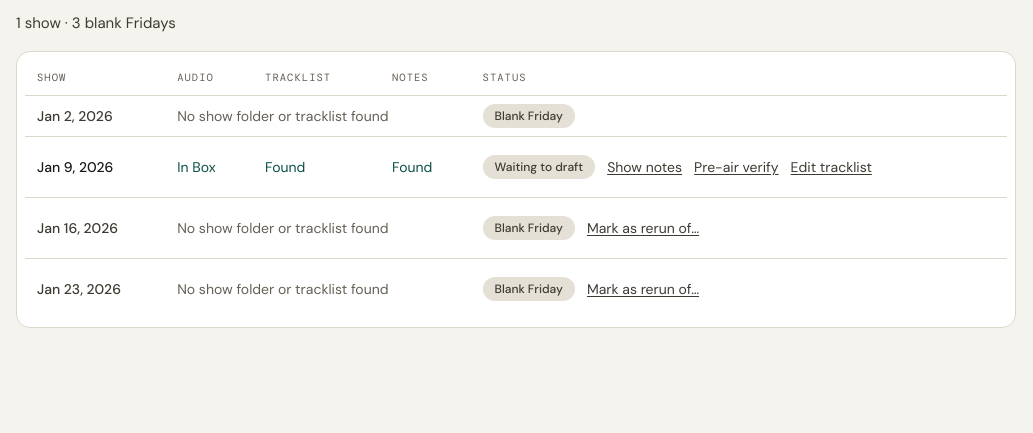
it: EpisodesView research (Plan 7) › a refused start says why in the row
The width and height of the screenshot is (1033, 433).
What coordinates should you click on to do the following:
click the button "Show notes"
I would click on:
 (645, 167)
Its box is [607,145,682,189].
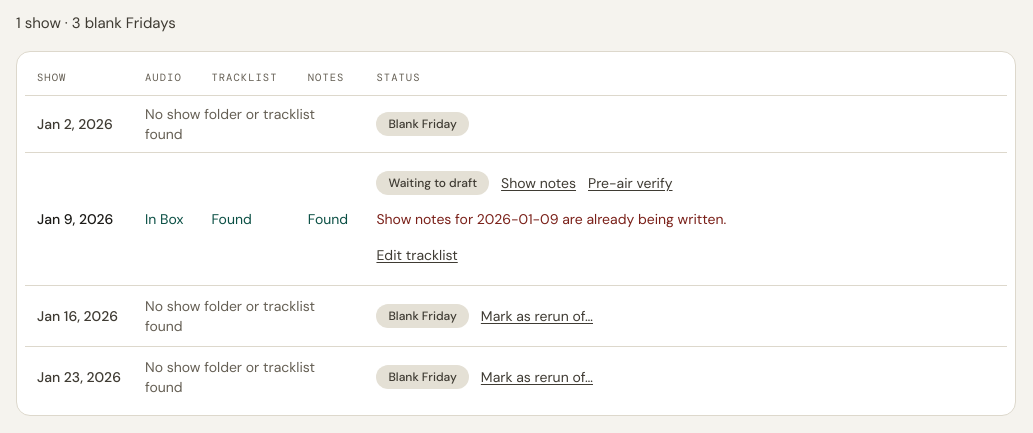
Now the message shows "already being written", box [376,210,726,228]
